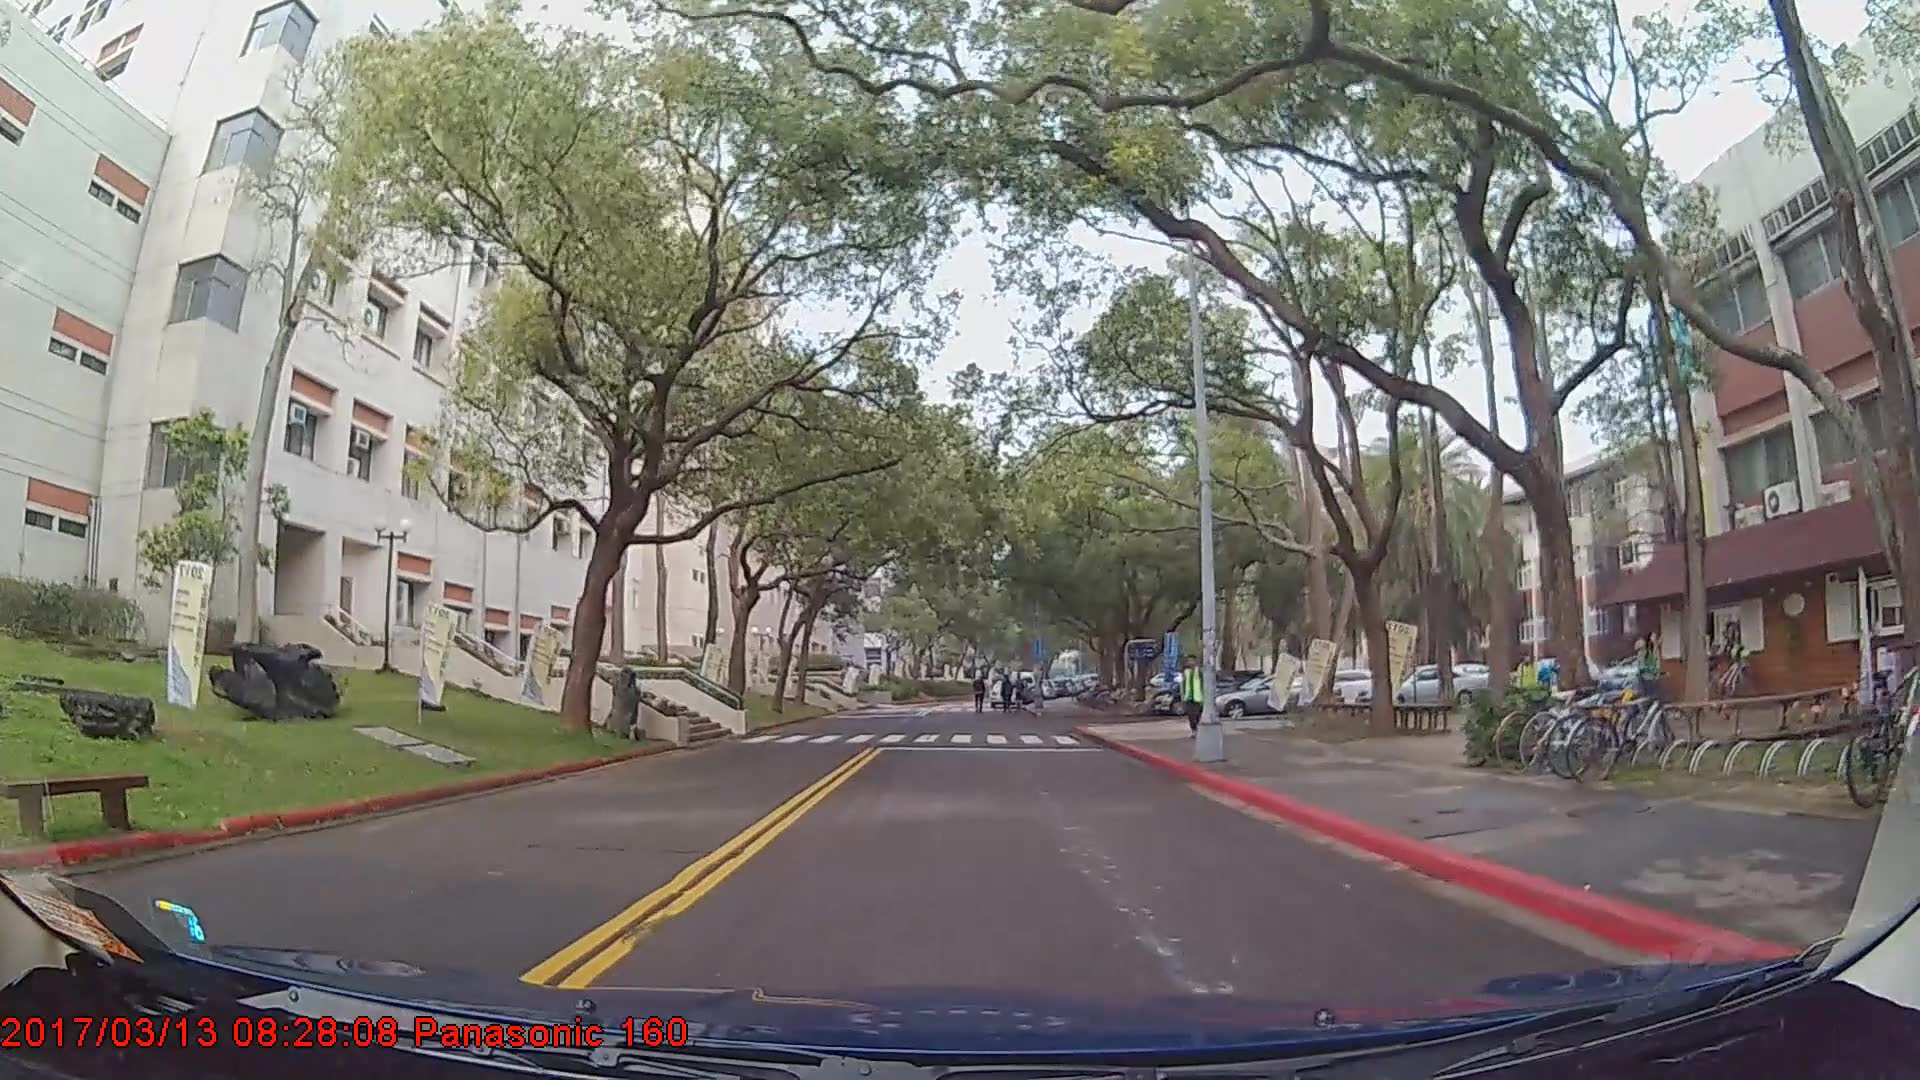pedestrian: (1176, 654, 1211, 744), (1517, 651, 1541, 717), (996, 670, 1022, 721)
vehicle: (1352, 664, 1487, 709), (1212, 671, 1341, 716)
